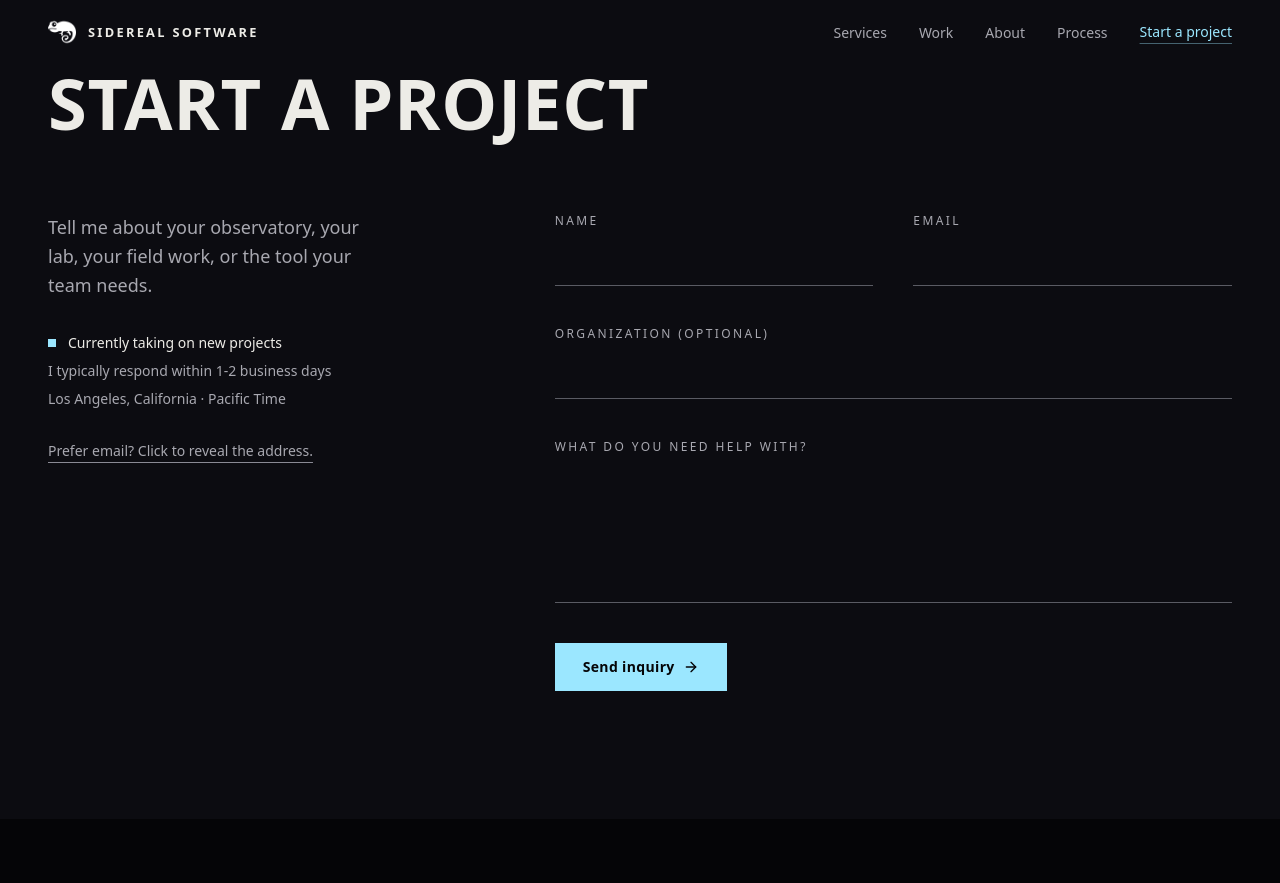
Test: App › reveals the contact email on click
(page scrolled)
Click the button "Prefer email? Click to reveal the address.": (180, 451) [48,441,313,461]
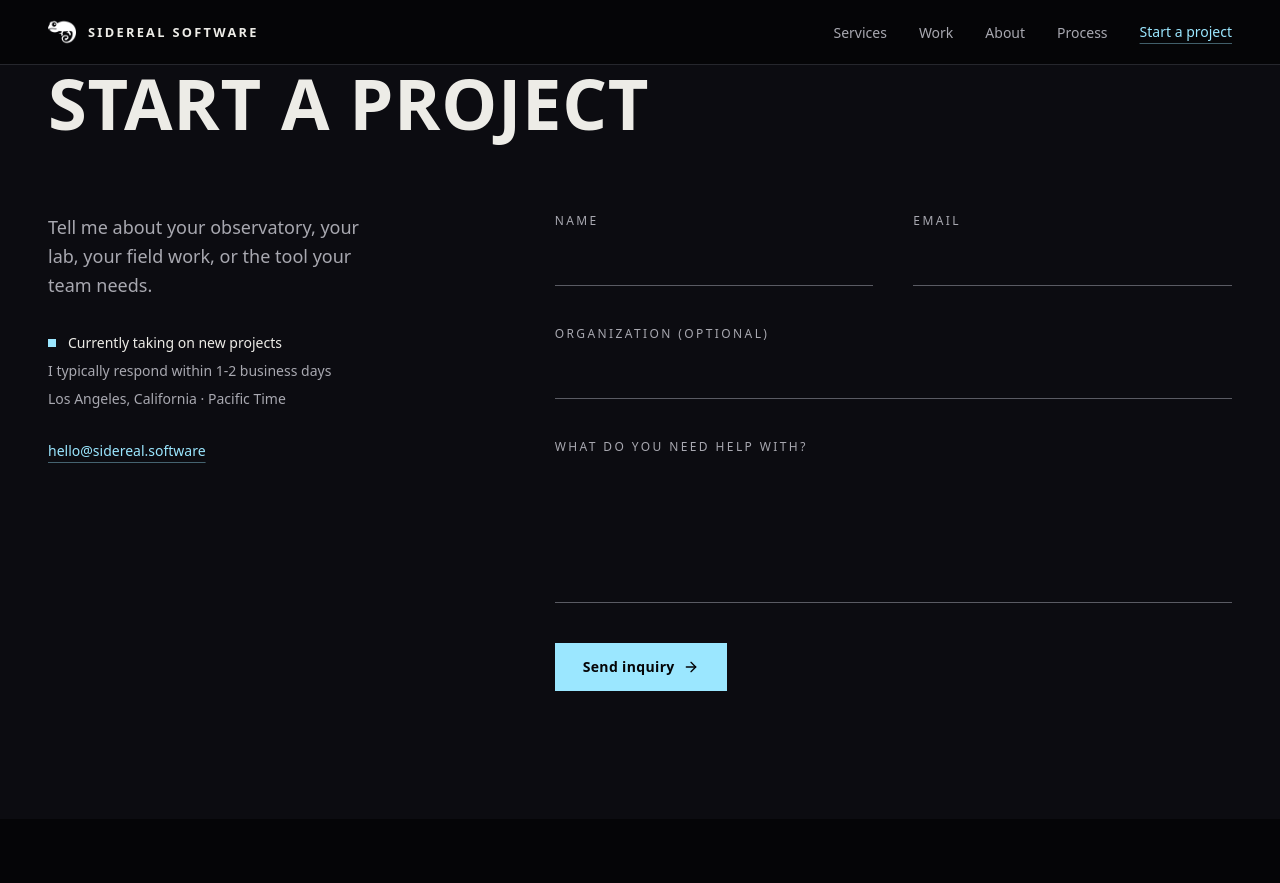
Now the link to "mailto:hello@sidereal.software" is shown, box [48,441,206,460]
